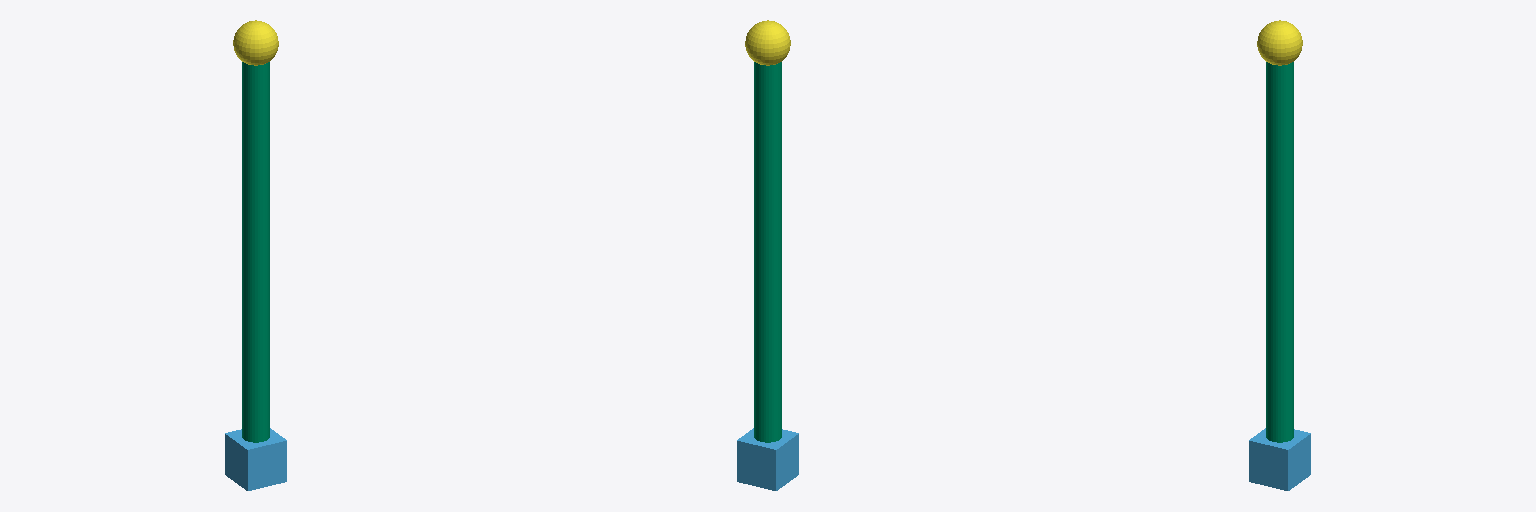
URDF robot description (cart_pole):
<?xml version="1.0" ?>
<!--
SPDX-FileCopyrightText: Copyright (c) 2021 NVIDIA CORPORATION & AFFILIATES. All rights reserved.
SPDX-License-Identifier: Apache-2.0

Licensed under the Apache License, Version 2.0 (the "License");
you may not use this file except in compliance with the License.
You may obtain a copy of the License at

http://www.apache.org/licenses/LICENSE-2.0

Unless required by applicable law or agreed to in writing, software
distributed under the License is distributed on an "AS IS" BASIS,
WITHOUT WARRANTIES OR CONDITIONS OF ANY KIND, either express or implied.
See the License for the specific language governing permissions and
limitations under the License.
-->

<robot name="cart_pole">
    <link name="base"/>
    <link name="cart">
        <visual>
            <geometry>
                <box size="0.1 0.1 0.1"/>
            </geometry>
        </visual>
    </link>
    <joint name="slide" type="prismatic">
        <parent link="base"/>
        <child link="cart"/>
        <origin rpy="0 0 0" xyz="0 0 0"/>
        <axis xyz="1 0 0"/>
        <limit effort="100" lower="-1.0" upper="1.0" velocity="100"/>
    </joint>
    <link name="pole_base">
        <visual>
            <geometry>
                <cylinder length="1.0" radius="0.03"/>
            </geometry>
            <origin rpy="0 0 0" xyz="0 0 0.5"/>
        </visual>
    </link>
    <joint name="rotation" type="revolute">
        <parent link="cart"/>
        <child link="pole_base"/>
        <origin rpy="0 0 0" xyz="0 0 0"/>
        <axis xyz="0 1 0"/>
        <limit effort="100" lower="-6.0" upper="6.0" velocity="100"/>
    </joint>
    <link name="pole_tip">
        <visual>
            <geometry>
                <sphere radius="0.05"/>
            </geometry>
        </visual>
    </link>
    <joint name="end" type="fixed">
        <parent link="pole_base"/>
        <child link="pole_tip"/>
        <origin rpy="0 0 0" xyz="0 0 1"/>
        <axis xyz="0 0 1"/>
    </joint>
</robot>

--- Render facts (derived) ---
3 views of the same robot in one strip: view 1: azimuth 30°, elevation 25°; view 2: azimuth 150°, elevation 25°; view 3: azimuth 330°, elevation 25° (orthographic).
Robot: cart_pole — 4 links, 3 joints (1 revolute, 1 prismatic, 1 fixed); root link base; default pose: all joints at 0.
Visible links, largest first — view 1: pole_base, cart, pole_tip; view 2: pole_base, cart, pole_tip; view 3: pole_base, cart, pole_tip.
Link boxes in pixels (x1,y1,x2,y2): pole_base: (242, 62, 269, 442); cart: (225, 428, 286, 490); pole_tip: (233, 20, 278, 65); pole_base: (754, 62, 781, 442); cart: (737, 428, 798, 490); pole_tip: (745, 20, 790, 65); pole_base: (1266, 62, 1293, 442); cart: (1249, 428, 1310, 490); pole_tip: (1257, 20, 1302, 65).
Bounding box of the posed robot: 0.1 × 0.1 × 1.1 m (x, y, z).
Geometry: primitives only (box / cylinder / sphere), no mesh files.